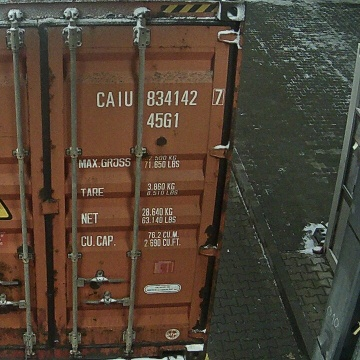serial_id: (97, 89, 222, 107)
